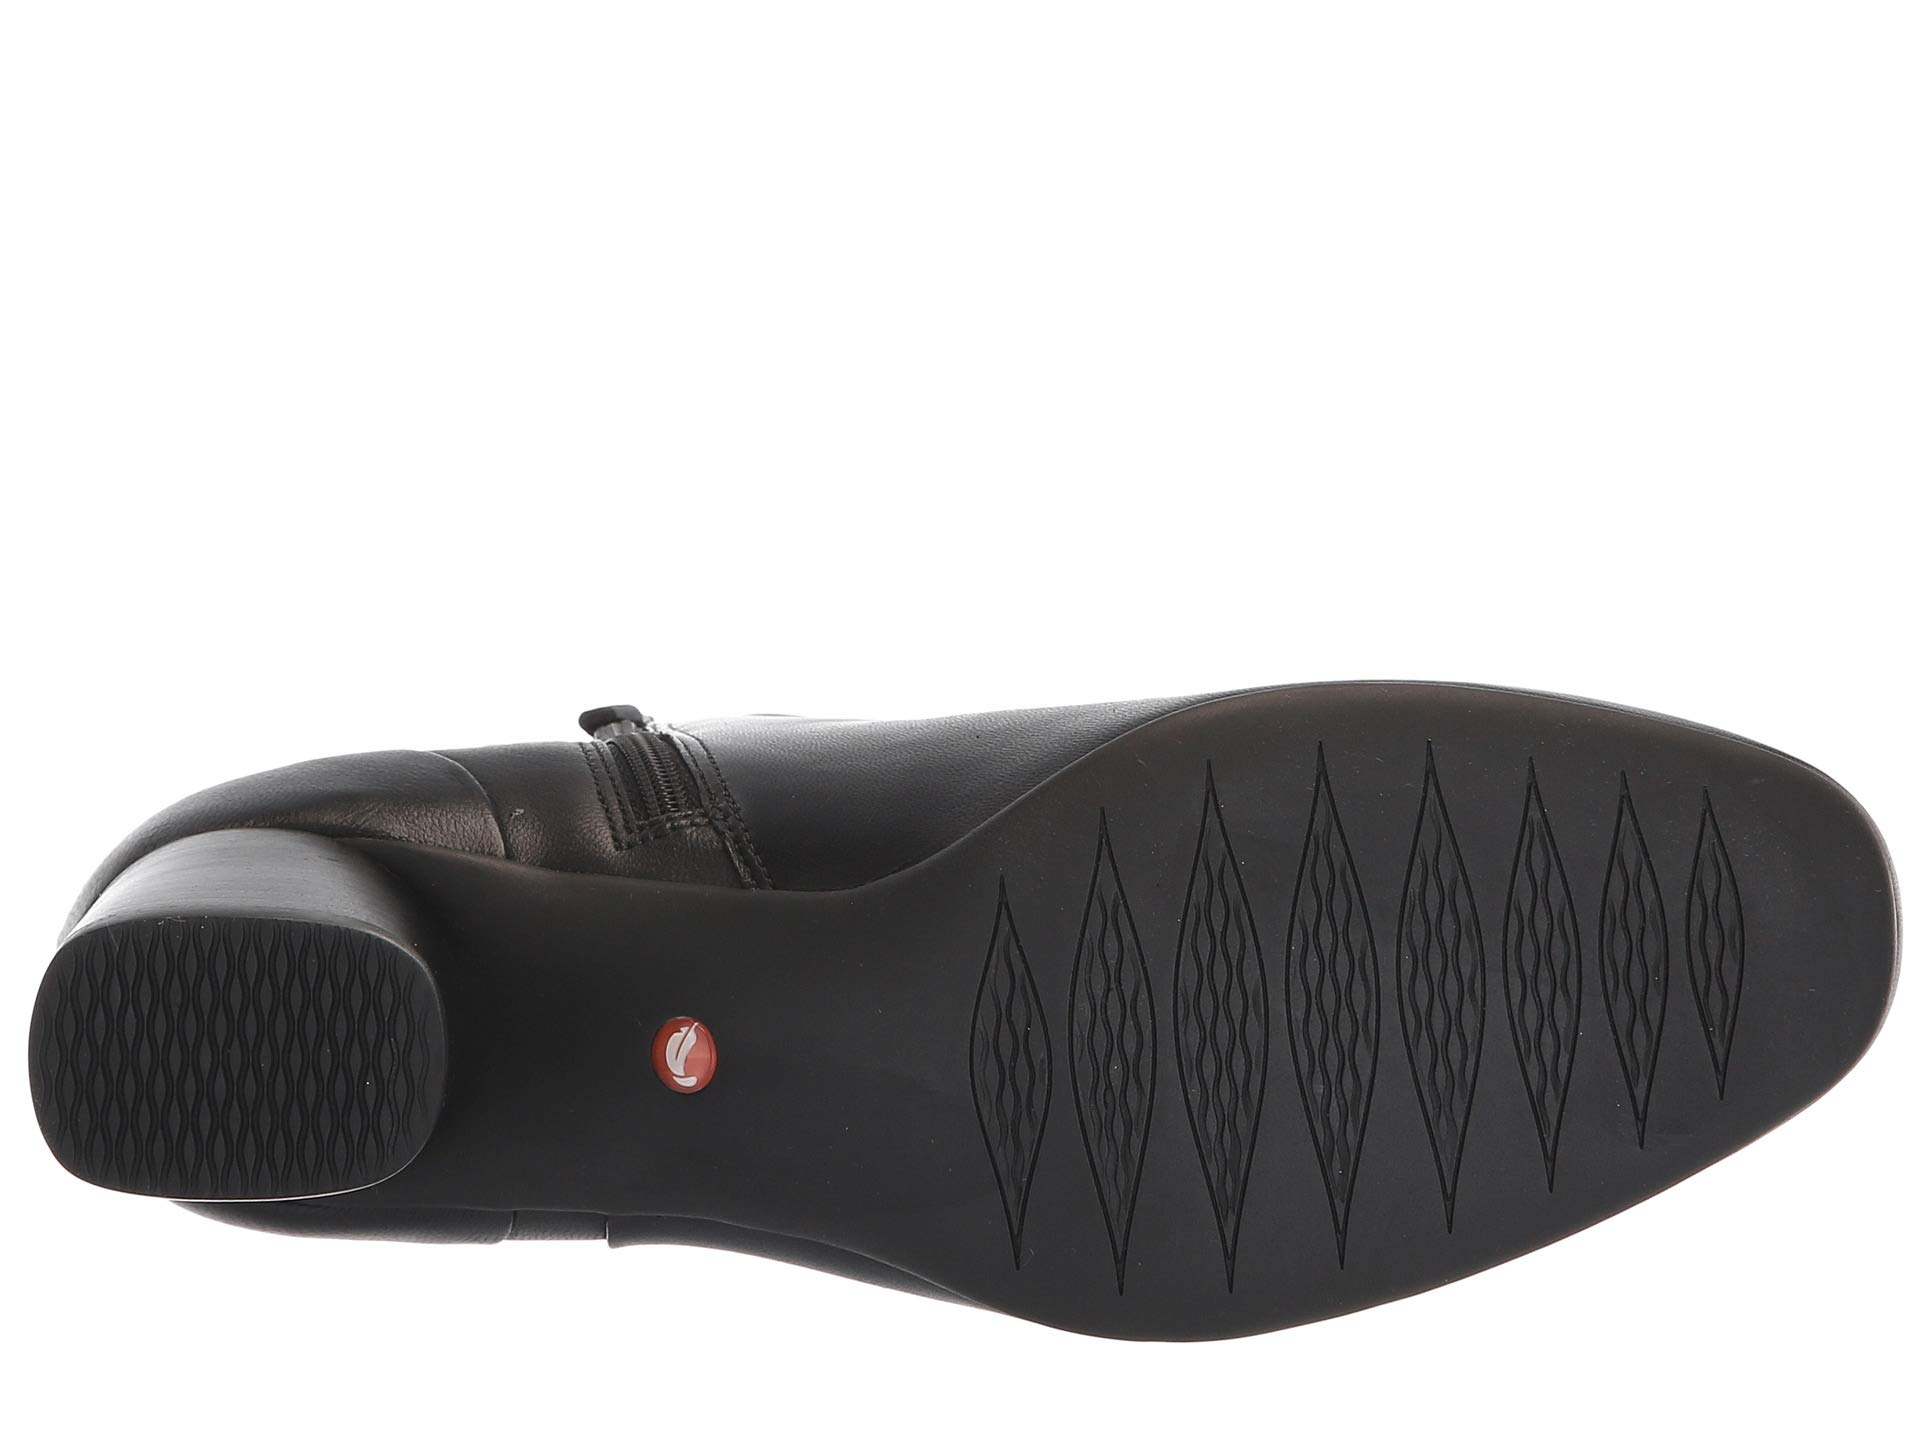quad: (1008, 765, 1752, 1248)
